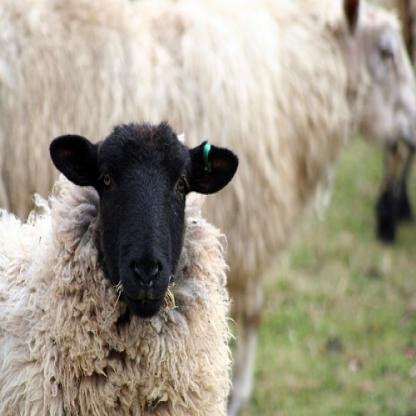sheep: (0, 0, 415, 415), (0, 121, 239, 415)
